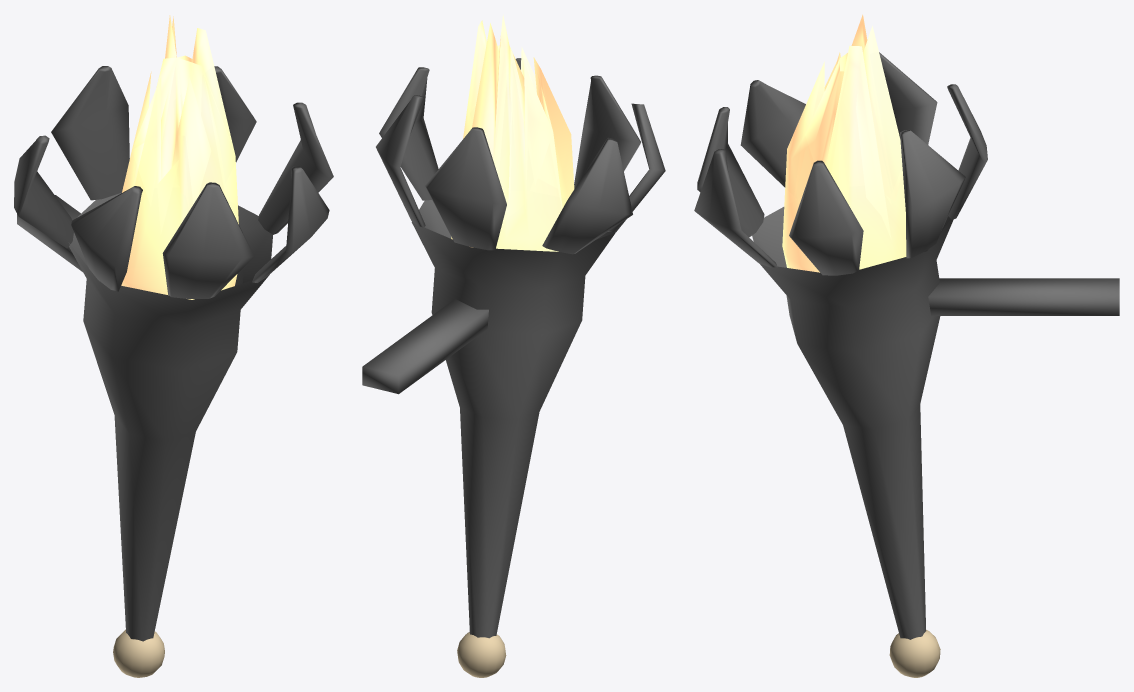
File: Torche.fbx
3 renders of one model, left to right at view 1: azimuth 30°, elevation 25°; view 2: azimuth 150°, elevation 25°; view 3: azimuth 270°, elevation 25°, orthographic. The views are drawn at different scales.
Parts seen in each view (by area): view 1: Circle_001, Sphere_001, Cylinder_5, Cylinder_2, Cylinder_3, Cylinder_4, Cylinder_0, Cylinder_1, Sphere, Cylinder, Cube; view 2: Circle_001, Sphere_001, Cylinder_5, Cube, Cylinder_4, Cylinder_2, Cylinder_0, Cylinder, Sphere, Cylinder_3; view 3: Circle_001, Sphere_001, Cube, Cylinder_0, Cylinder, Cylinder_3, Cylinder_1, Cylinder_2, Cylinder_4, Cylinder_5, Sphere.
Part boxes in pixels (box(x1,y1,x2,y2)): Circle_001: box(68, 192, 272, 641); Sphere_001: box(121, 15, 238, 299); Cylinder_5: box(51, 66, 129, 200); Cylinder_2: box(162, 182, 254, 298); Cylinder_3: box(71, 186, 142, 291); Cylinder_4: box(14, 135, 73, 248); Cylinder_0: box(258, 102, 333, 234); Cylinder_1: box(252, 166, 329, 282); Sphere: box(113, 629, 164, 677); Cylinder: box(214, 66, 256, 162); Cube: box(17, 195, 82, 271); Circle_001: box(411, 200, 615, 638); Sphere_001: box(451, 14, 574, 251); Cylinder_5: box(425, 127, 506, 250); Cube: box(362, 299, 488, 394); Cylinder_4: box(542, 138, 632, 254); Cylinder_2: box(574, 75, 640, 188); Cylinder_0: box(379, 67, 438, 200); Cylinder: box(376, 95, 425, 227); Sphere: box(457, 632, 506, 677); Cylinder_3: box(608, 103, 665, 232); Circle_001: box(751, 207, 953, 639); Sphere_001: box(782, 14, 906, 272); Cube: box(928, 278, 1119, 315); Cylinder_0: box(789, 160, 863, 275); Cylinder: box(900, 130, 965, 258); Cylinder_3: box(740, 80, 805, 187); Cylinder_1: box(694, 149, 777, 267); Cylinder_2: box(697, 107, 764, 237); Cylinder_4: box(879, 52, 937, 144); Cylinder_5: box(947, 84, 987, 219); Sphere: box(889, 629, 940, 677).
Size of the model in its own units: 3.07 by 7.15 by 4.16.
